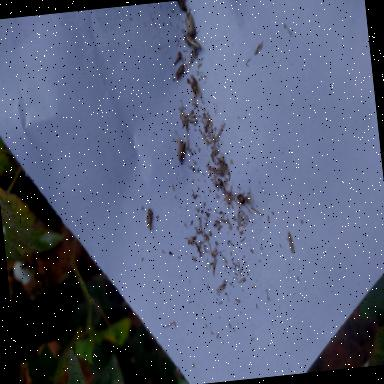pbw: (174, 134, 189, 166), (184, 12, 196, 38), (183, 32, 200, 50), (190, 76, 202, 100), (143, 208, 155, 231), (174, 64, 186, 83), (176, 0, 186, 13), (173, 51, 183, 64)
